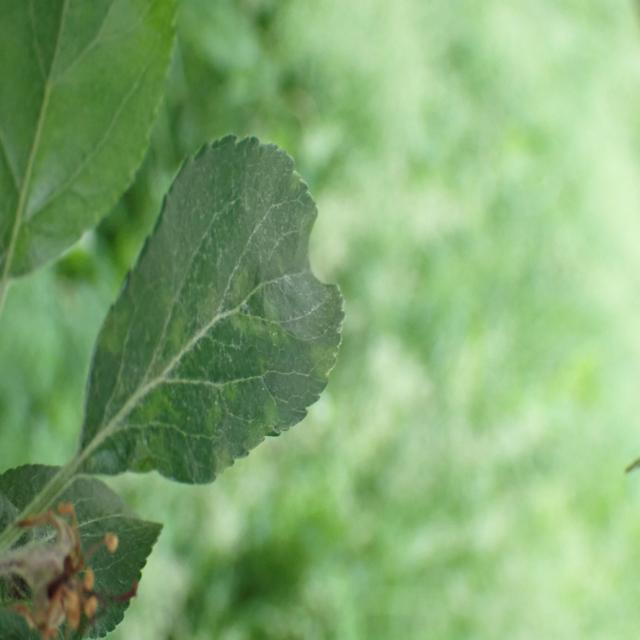scab: (104, 199, 339, 470)
